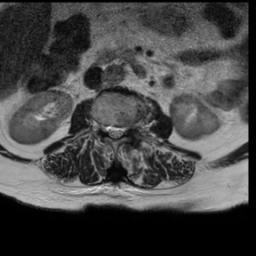CCS_stenosis: (110, 119, 118, 146)
LFS_stenosis: (125, 118, 132, 134)
LLS_normal: (118, 122, 124, 141)
RFS_normal: (97, 118, 106, 135)
RLS_stenosis: (105, 120, 111, 139)
